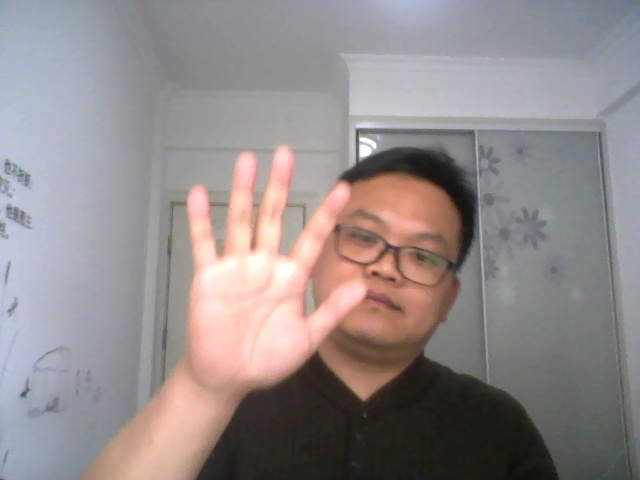Hello: (179, 139, 369, 398)
